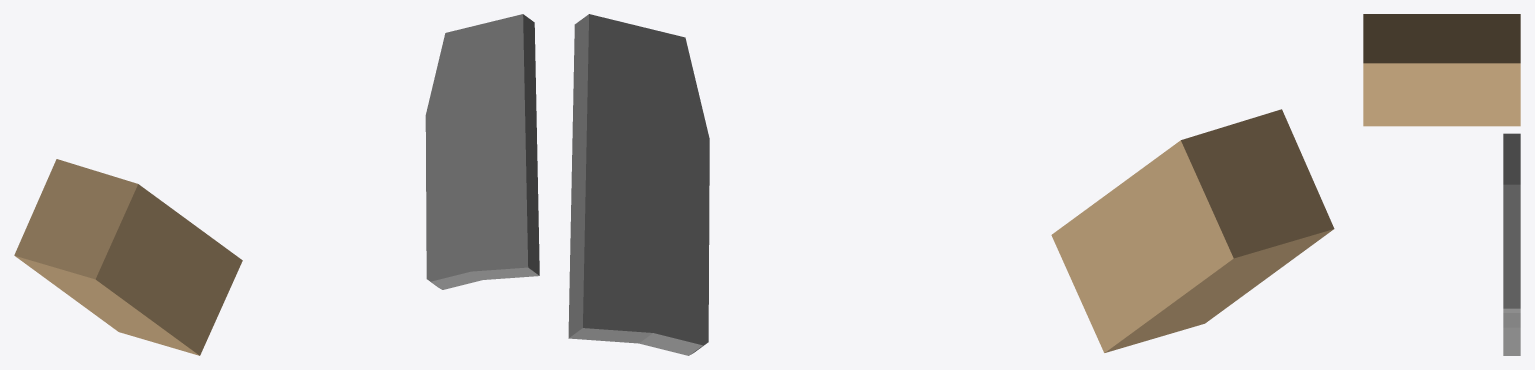
3 views of the same model, side by side, from view 1: azimuth 30°, elevation 25°; view 2: azimuth 150°, elevation 25°; view 3: azimuth 270°, elevation 25° (orthographic). The views are drawn at different scales.
Parts seen in each view (by area): view 1: 0_0_2_0_0_1_0_0; view 2: 0_0_2_0_0_1_0_0; view 3: 0_0_2_0_0_1_0_0.
Boxes of the visible parts, <box> form: 0_0_2_0_0_1_0_0: <box>14,14,539,355</box>; 0_0_2_0_0_1_0_0: <box>568,14,1334,355</box>; 0_0_2_0_0_1_0_0: <box>1363,14,1520,355</box>.
Bounding box in the file's own units: 76.64 × 36.31 × 27.
